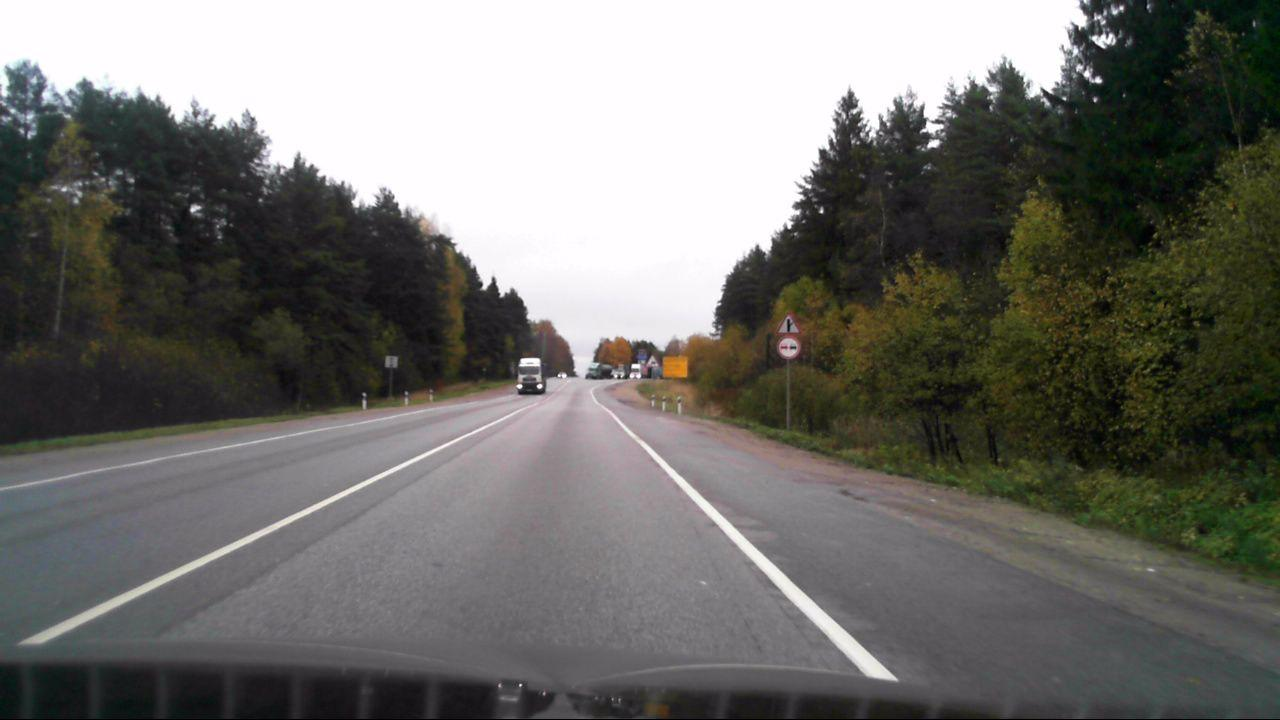2_3_4: (776, 312, 799, 334)
3_20: (776, 337, 801, 358)
